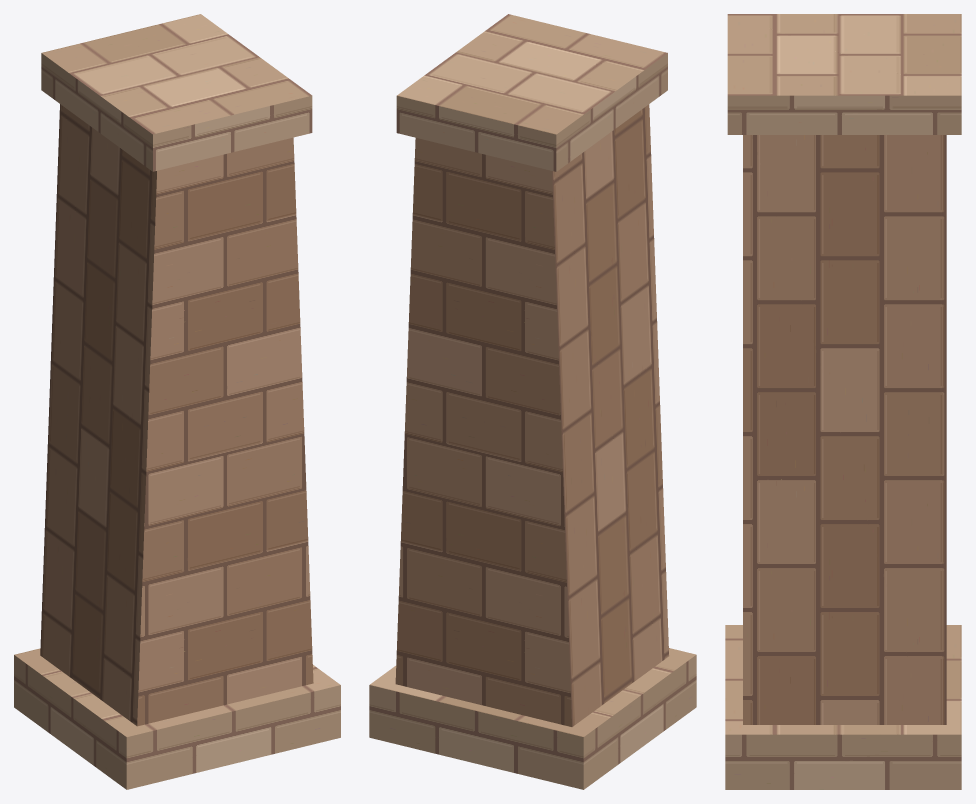
The model's file is Support_Buttress.obj.
The picture shows the model from 3 angles, left to right: view 1: azimuth 30°, elevation 25°; view 2: azimuth 150°, elevation 25°; view 3: azimuth 270°, elevation 25°; orthographic projection. The views are drawn at different scales.
Visible parts, largest first — view 1: Stone_Sand, Stone_Light; view 2: Stone_Sand, Stone_Light; view 3: Stone_Sand, Stone_Light.
Part boxes in pixels (bbox=[...]): Stone_Sand: bbox=[40, 104, 313, 726]; Stone_Light: bbox=[14, 14, 340, 789]; Stone_Sand: bbox=[395, 104, 669, 726]; Stone_Light: bbox=[369, 14, 696, 789]; Stone_Sand: bbox=[743, 135, 946, 724]; Stone_Light: bbox=[725, 14, 961, 789].
Size of the model in its own units: 1.02 by 2.97 by 0.93.
Materials: 2 (2 with a texture image).
